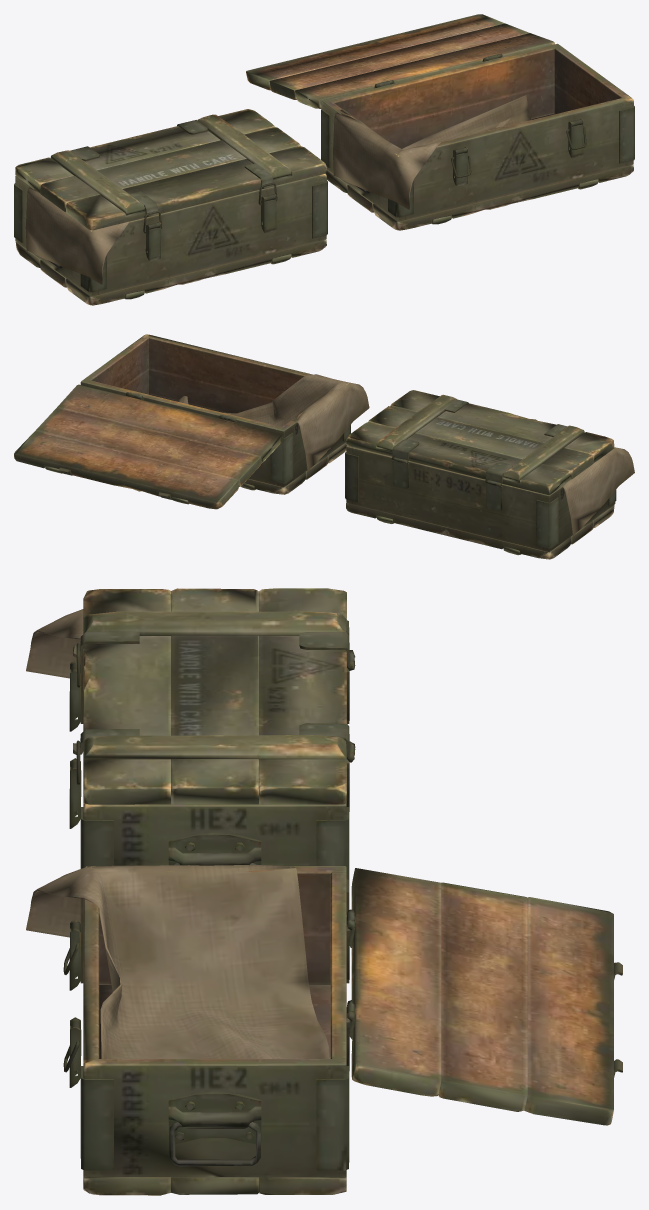
Rendered from crateMilitary.glb.
3 renders of one model, top to bottom at view 1: azimuth 30°, elevation 25°; view 2: azimuth 150°, elevation 25°; view 3: azimuth 270°, elevation 25°, orthographic. The views are drawn at different scales.
Visible parts, largest first — view 1: old_military_crate_b, old_military_crate_lid_a, old_military_crate_a, old_military_crate_lid_b, old_military_crate_cloth_b, old_military_crate_cloth_a, old_military_crate_latch_a, old_military_crate_latch_b; view 2: old_military_crate_lid_b, old_military_crate_lid_a, old_military_crate_a, old_military_crate_b, old_military_crate_cloth_b, old_military_crate_cloth_a; view 3: old_military_crate_lid_a, old_military_crate_lid_b, old_military_crate_b, old_military_crate_cloth_b, old_military_crate_a, old_military_crate_cloth_a, old_military_crate_latch_a, old_military_crate_latch_b.
Part boxes in pixels (bbox=[...]): old_military_crate_b: bbox=[321, 43, 634, 230]; old_military_crate_lid_a: bbox=[15, 109, 326, 230]; old_military_crate_a: bbox=[14, 173, 327, 305]; old_military_crate_lid_b: bbox=[246, 14, 554, 108]; old_military_crate_cloth_b: bbox=[333, 95, 531, 209]; old_military_crate_cloth_a: bbox=[25, 187, 129, 284]; old_military_crate_latch_a: bbox=[145, 194, 276, 261]; old_military_crate_latch_b: bbox=[453, 119, 583, 186]; old_military_crate_lid_b: bbox=[14, 384, 282, 509]; old_military_crate_lid_a: bbox=[346, 390, 614, 495]; old_military_crate_a: bbox=[345, 445, 616, 559]; old_military_crate_b: bbox=[80, 334, 350, 494]; old_military_crate_cloth_b: bbox=[176, 374, 369, 470]; old_military_crate_cloth_a: bbox=[562, 447, 634, 535]; old_military_crate_lid_a: bbox=[73, 588, 355, 805]; old_military_crate_lid_b: bbox=[347, 868, 622, 1125]; old_military_crate_b: bbox=[80, 866, 354, 1195]; old_military_crate_cloth_b: bbox=[26, 865, 329, 1058]; old_military_crate_a: bbox=[80, 620, 355, 886]; old_military_crate_cloth_a: bbox=[26, 609, 83, 678]; old_military_crate_latch_a: bbox=[69, 661, 81, 828]; old_military_crate_latch_b: bbox=[69, 920, 81, 1087].
Bounding box in the file's own units: 1.81 × 0.3009 × 0.9743.
Materials: 1 (1 with a texture image).
